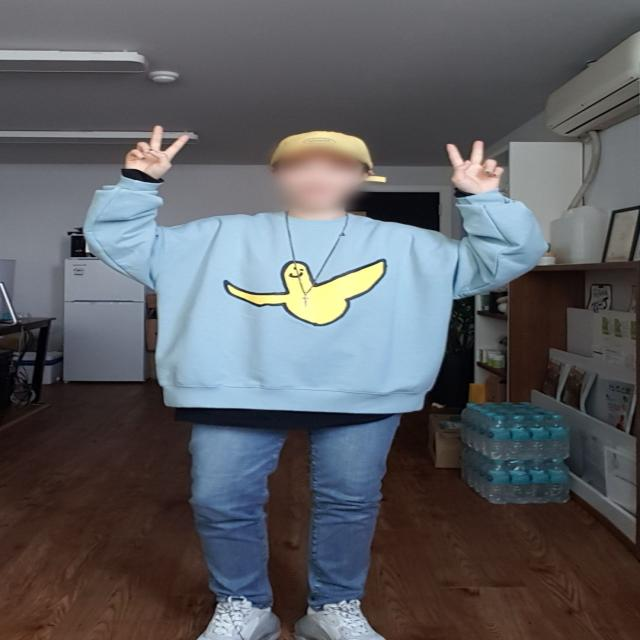denimpants: (192, 414, 397, 608)
mtm: (87, 171, 547, 414)
